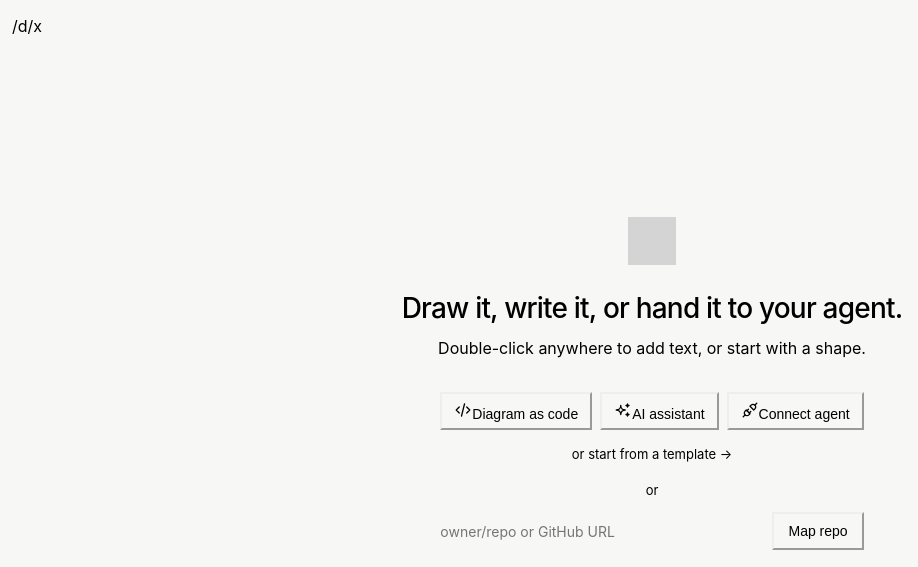
Scenario: V2CanvasWelcome › offers a GitHub repo as one more way to start, opening its map
The width and height of the screenshot is (918, 567).
Type "github.com/acme/shop" into the field named "Map a GitHub repo" at (602, 531), box [440, 512, 764, 550]
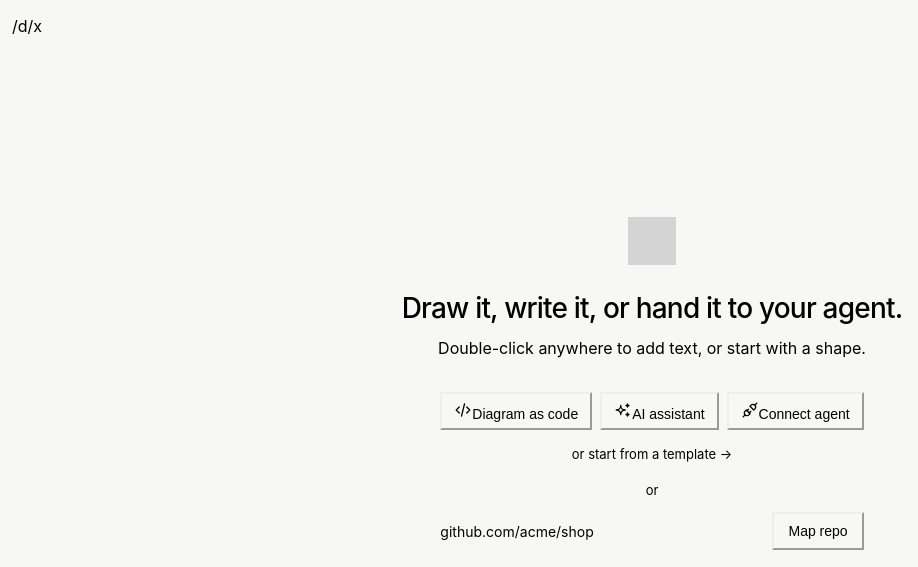
Click the button "Map repo" at (818, 531), box [772, 512, 864, 550]
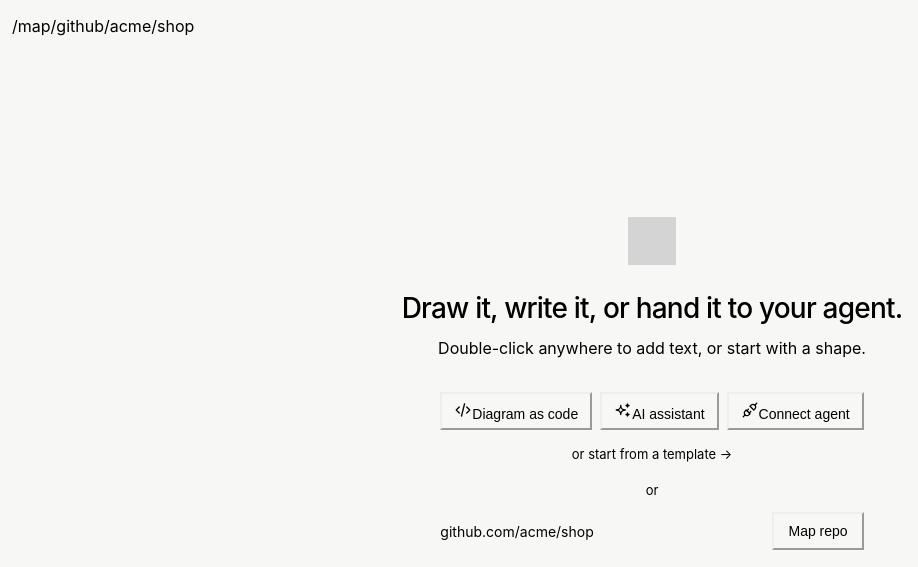
Expected: the text with test id "at" reads "/map/github/acme/shop", [12, 16, 194, 36]
